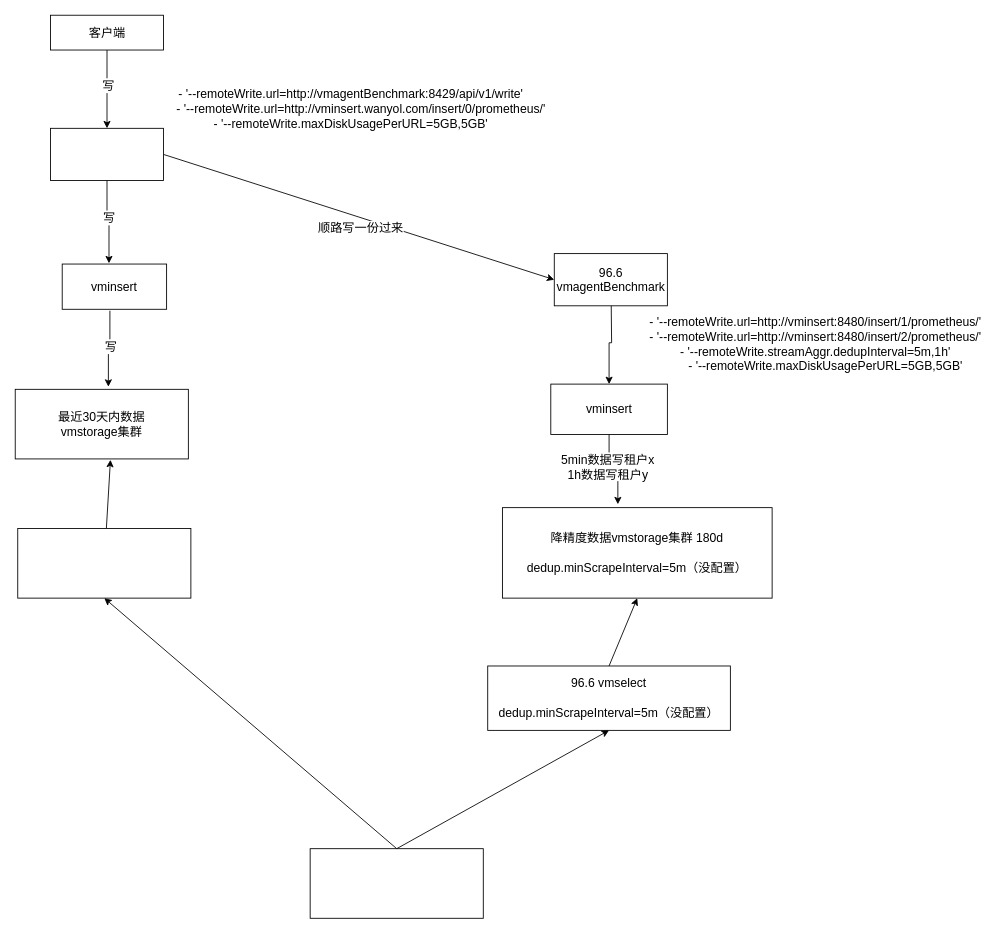
This 1005x934 diagram has some shape labels left out. The centre of each missing label's shape, as x and y in pixels:
tingfeng-server query-server: point 396,883
vmagent for-vminsert: point 107,154
vmselect: point 104,563
